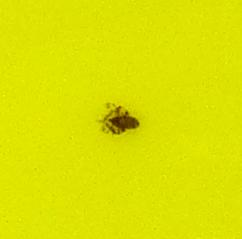Hemiptera: (100, 100, 142, 139)
